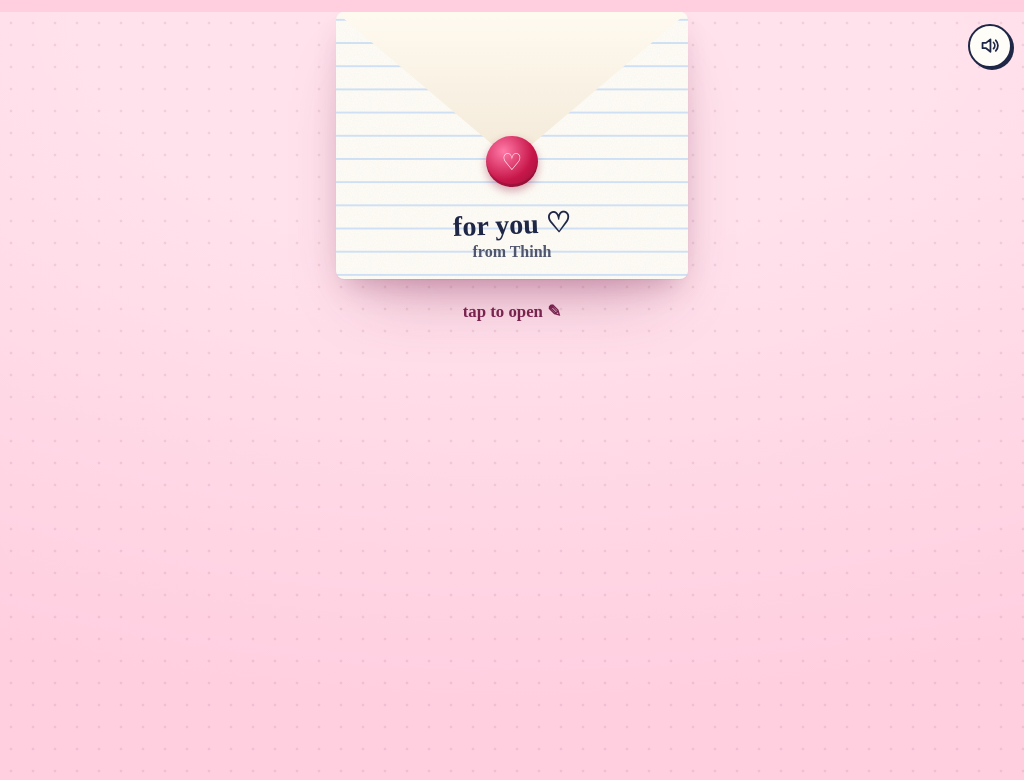
Test: Quiz › remembers the sound switch
The width and height of the screenshot is (1024, 780).
Click the button named "Sound effects" at coordinates (990, 46), box [968, 24, 1012, 68]
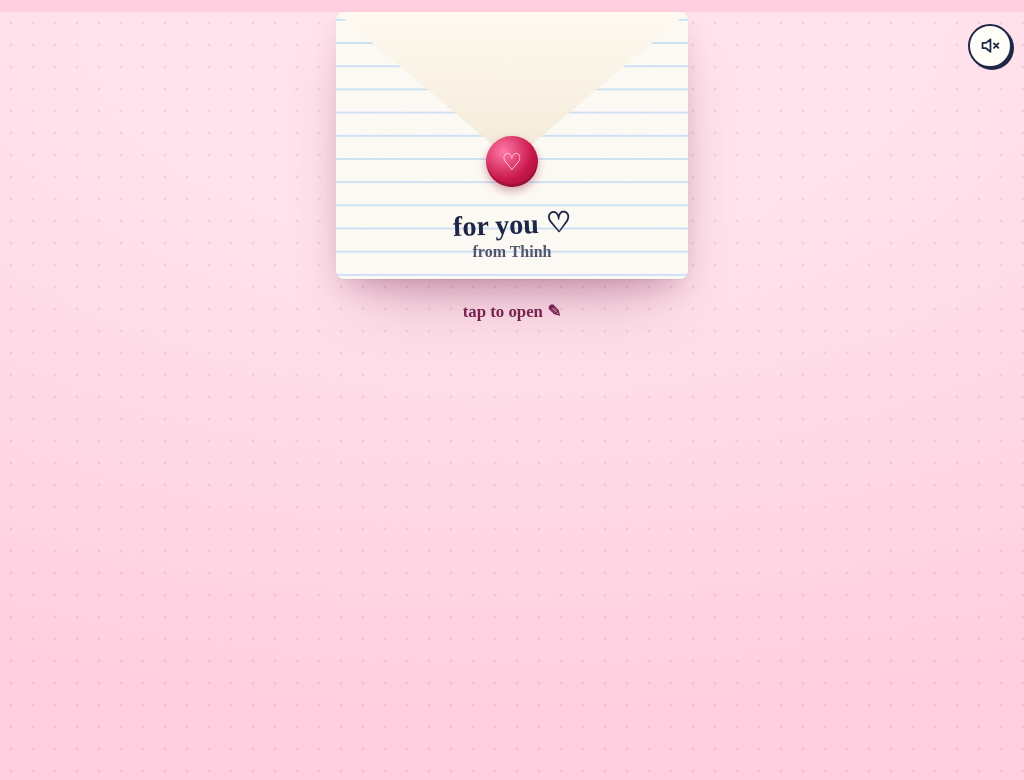
Result: the button named "Sound effects" is not pressed at [968, 24, 1012, 68]
